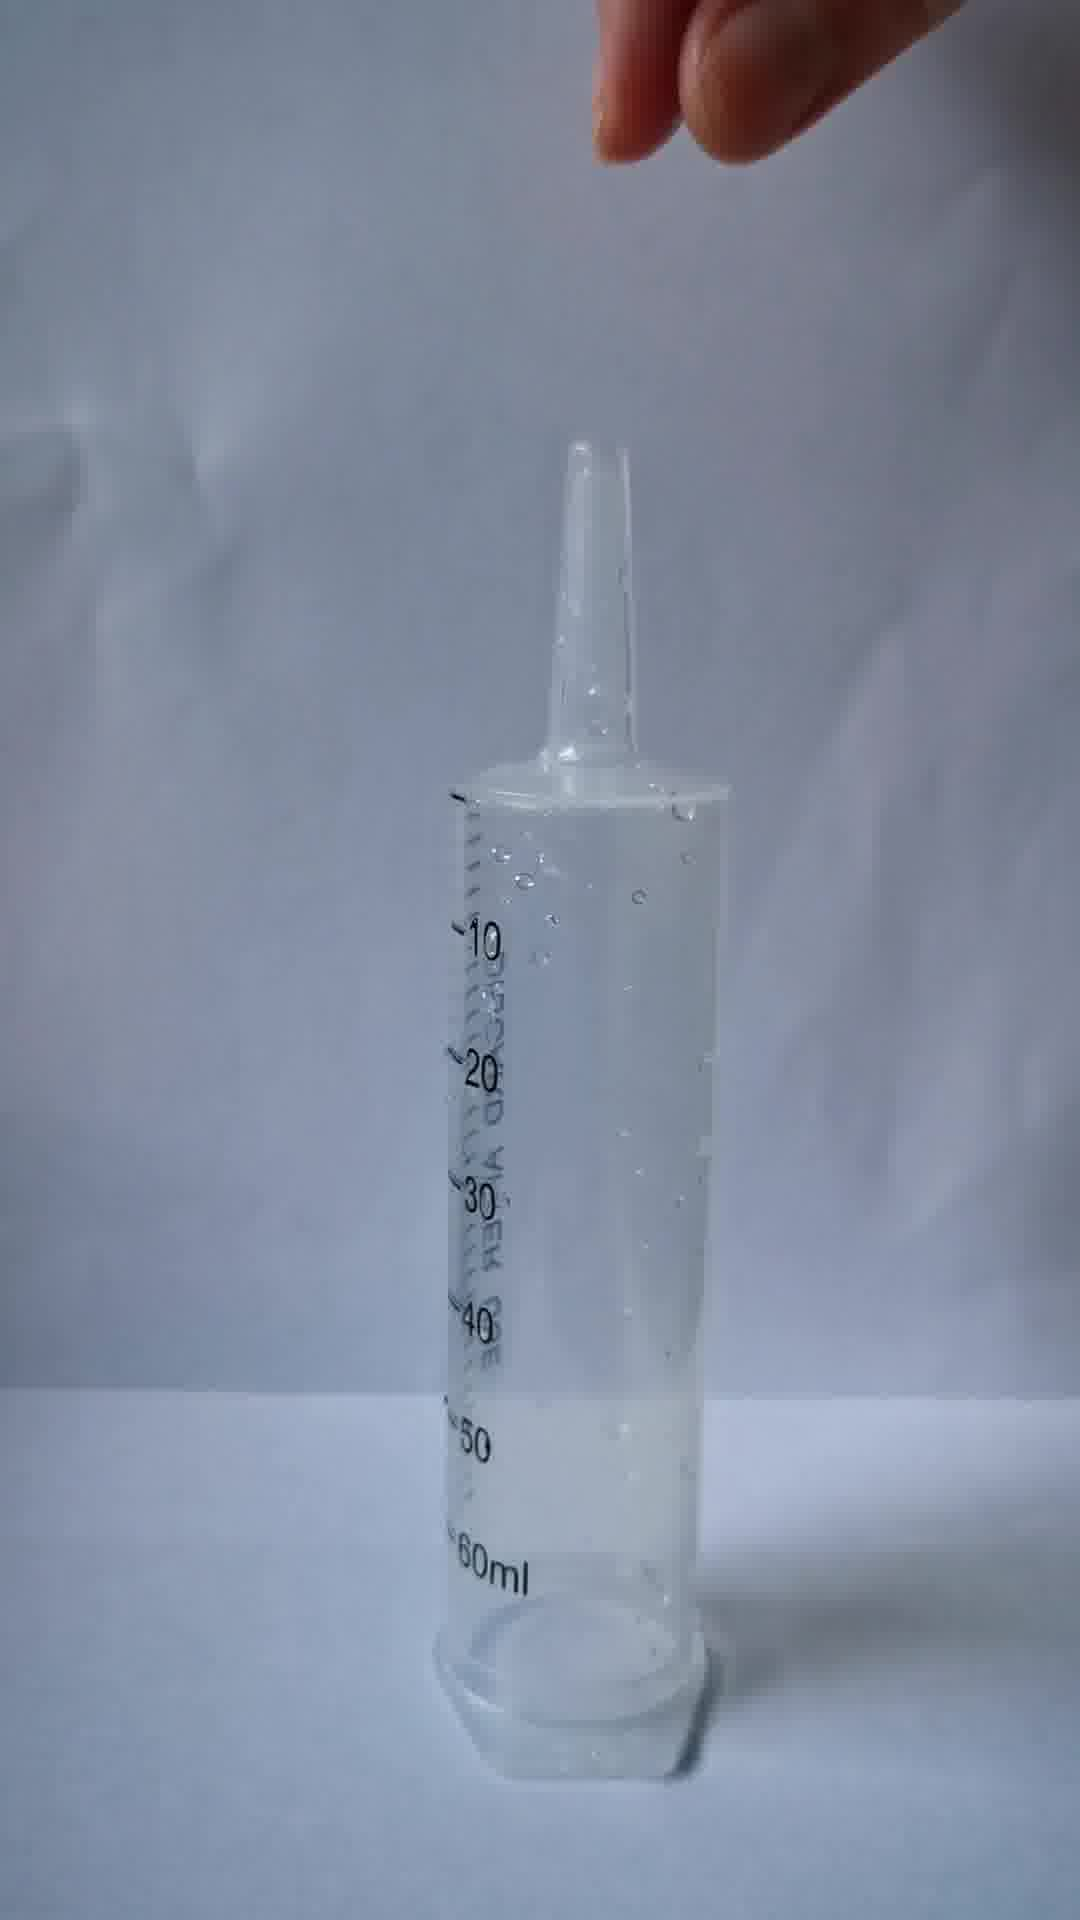syringe: (433, 427, 727, 1785)
